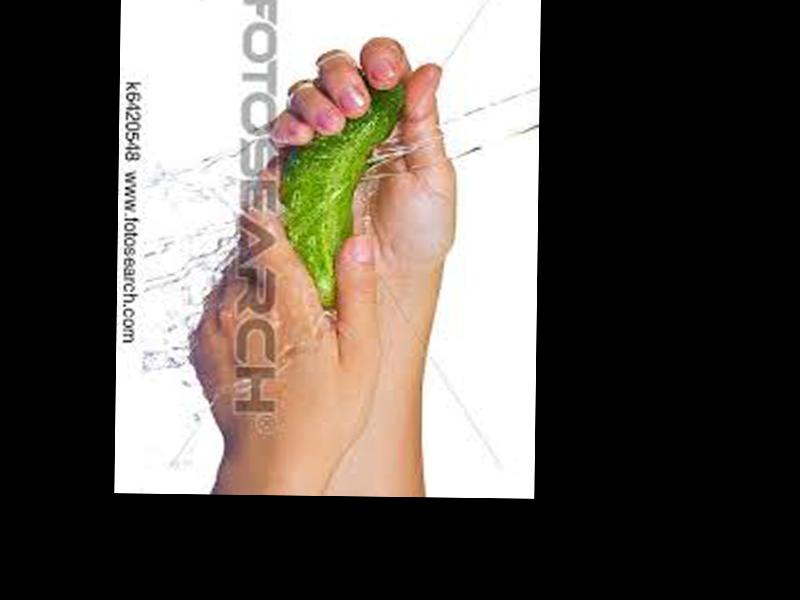Cucumber: (274, 78, 406, 316)
